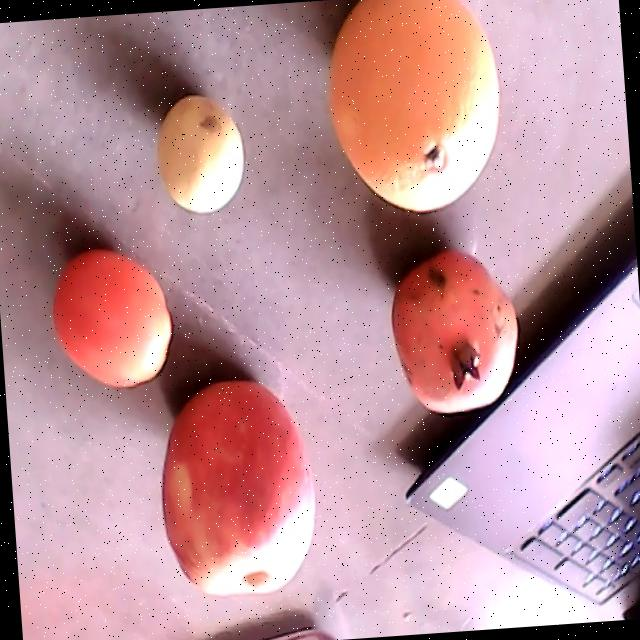apple: (160, 379, 313, 594)
lemon: (154, 93, 241, 214)
orange: (325, 0, 498, 218)
pomegranate: (390, 246, 517, 409)
tomato: (49, 248, 169, 389)
